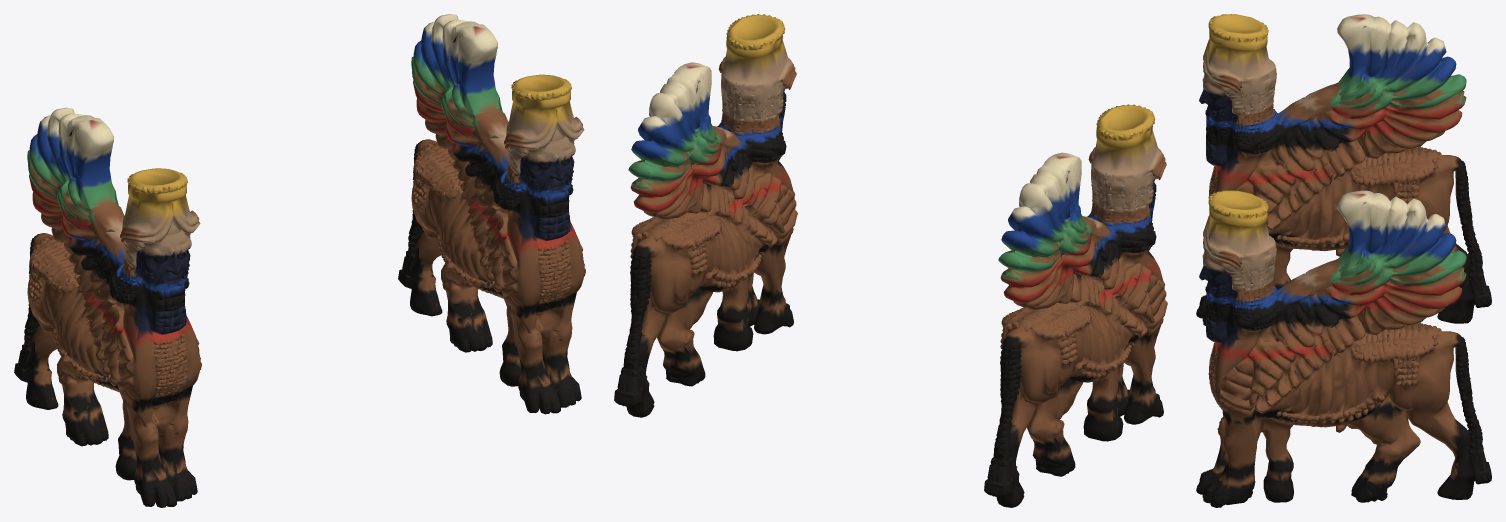
File: lamassu_pair.glb
The picture shows the model from 3 angles, left to right: view 1: azimuth 30°, elevation 25°; view 2: azimuth 150°, elevation 25°; view 3: azimuth 270°, elevation 25°; orthographic projection. The views are drawn at different scales.
Visible parts, largest first — view 1: lamassu_R, lamassu_L; view 2: lamassu_L, lamassu_R; view 3: lamassu_R, lamassu_L.
Boxes of the visible parts, x1,y1,x2,y2 form: lamassu_R: [398, 14, 585, 414]; lamassu_L: [14, 107, 201, 507]; lamassu_L: [984, 104, 1167, 507]; lamassu_R: [614, 14, 797, 417]; lamassu_R: [1196, 190, 1491, 507]; lamassu_L: [1196, 14, 1491, 325].
Size of the model in its own units: 11.64 by 7.6 by 6.74.
1 material, 1 textured.
